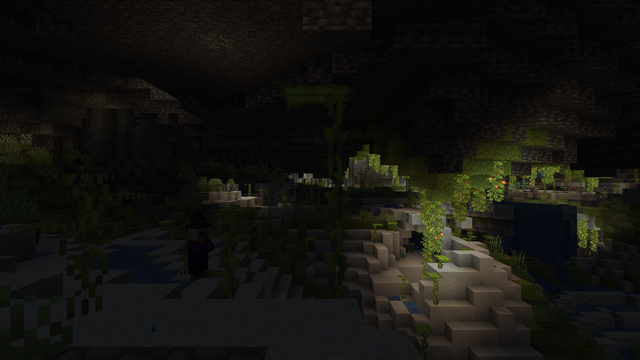creepers: (282, 194, 287, 207)
slimes: (178, 172, 184, 176)
sorcieres: (185, 223, 208, 280)
